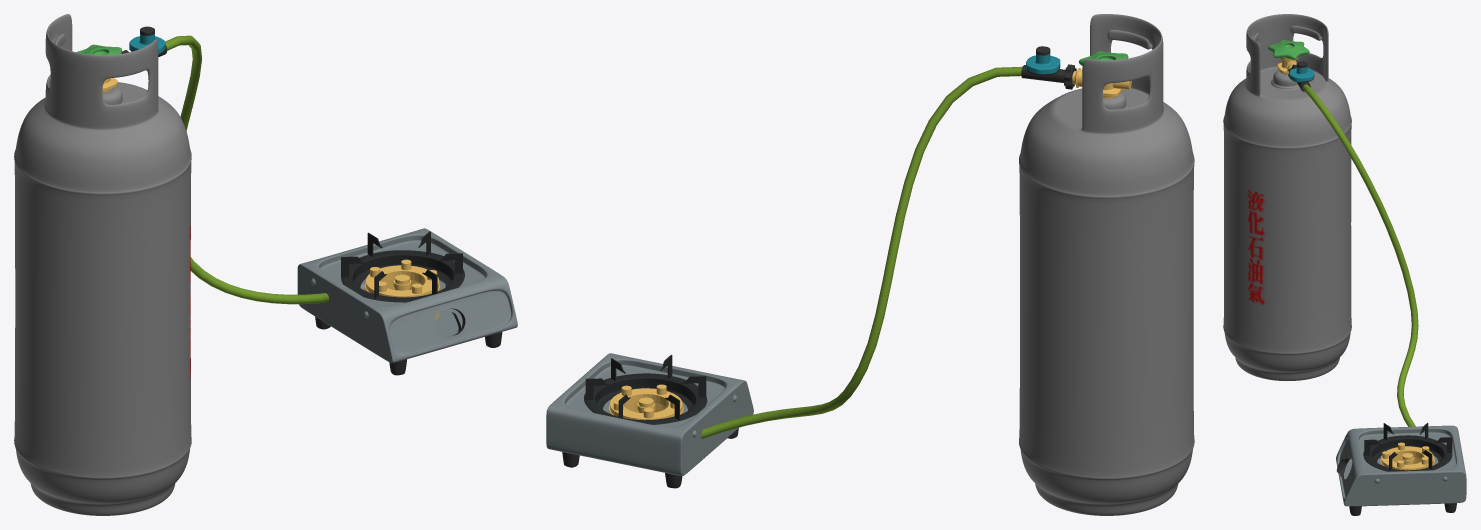
Rendered from 瓦斯及瓦斯爐.fbx.
3 renders of one model, left to right at view 1: azimuth 30°, elevation 25°; view 2: azimuth 150°, elevation 25°; view 3: azimuth 270°, elevation 25°, orthographic. The views are drawn at different scales.
Parts seen in each view (by area): view 1: 圓柱體.022, 立方體.010, 立方體.011, 貝茲曲線.001, 圓柱體.010, 立方體.013, 立方體.016; view 2: 圓柱體.022, 立方體.010, 貝茲曲線.001, 立方體.011, 立方體.016, 圓柱體.010, 立方體.013; view 3: 圓柱體.022, 立方體.010, 貝茲曲線.001, 立方體.011, 立方體.013, 圓柱體.010, 圓形, 立方體.016.
Part boxes in pixels (x1=…): 圓柱體.022: x1=14, y1=14, x2=191, y2=515; 立方體.010: x1=297, y1=228, x2=517, y2=363; 立方體.011: x1=341, y1=250, x2=464, y2=302; 貝茲曲線.001: x1=165, y1=35, x2=328, y2=304; 圓柱體.010: x1=364, y1=265, x2=440, y2=319; 立方體.013: x1=341, y1=231, x2=462, y2=298; 立方體.016: x1=121, y1=26, x2=167, y2=56; 圓柱體.022: x1=1019, y1=14, x2=1194, y2=515; 立方體.010: x1=546, y1=353, x2=753, y2=475; 貝茲曲線.001: x1=701, y1=66, x2=1022, y2=438; 立方體.011: x1=584, y1=373, x2=707, y2=424; 立方體.016: x1=1021, y1=46, x2=1076, y2=89; 圓柱體.010: x1=609, y1=388, x2=683, y2=420; 立方體.013: x1=585, y1=355, x2=706, y2=420; 圓柱體.022: x1=1223, y1=14, x2=1351, y2=380; 立方體.010: x1=1336, y1=425, x2=1466, y2=506; 貝茲曲線.001: x1=1302, y1=84, x2=1418, y2=426; 立方體.011: x1=1363, y1=435, x2=1452, y2=471; 立方體.013: x1=1364, y1=422, x2=1452, y2=470; 圓柱體.010: x1=1380, y1=446, x2=1434, y2=470; 圓形: x1=1268, y1=40, x2=1309, y2=59; 立方體.016: x1=1288, y1=61, x2=1314, y2=91.
Size of the model in its own units: 103 by 84.62 by 56.67.
Materials: 10 (1 with a texture image).
